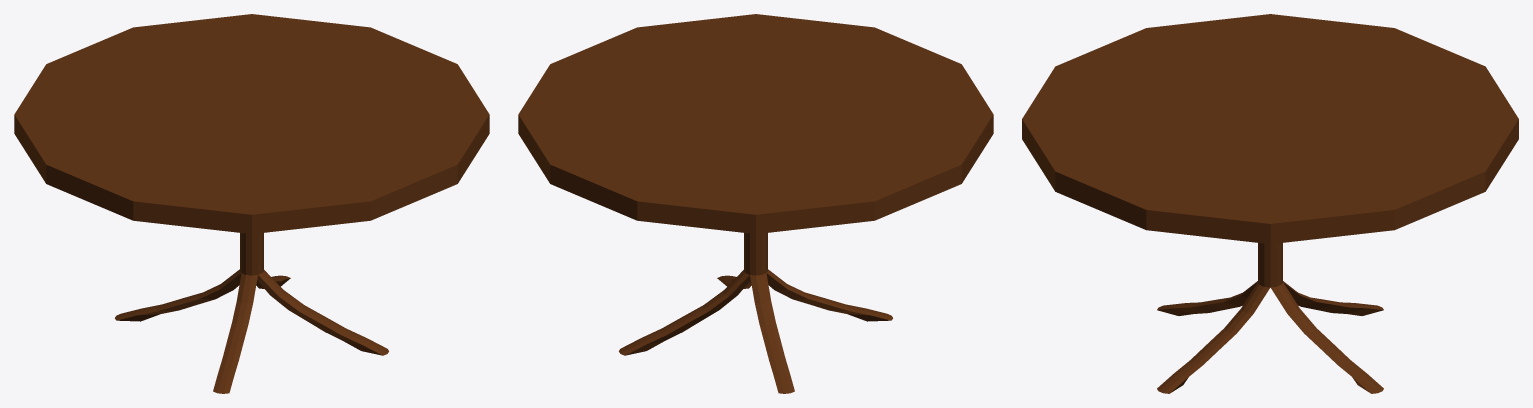
The model's file is Table_01.glb.
3 views of the same model, side by side, from view 1: azimuth 30°, elevation 25°; view 2: azimuth 150°, elevation 25°; view 3: azimuth 270°, elevation 25° (orthographic). The views are drawn at different scales.
Parts seen in each view (by area): view 1: Cylinder; view 2: Cylinder; view 3: Cylinder.
Boxes of the visible parts, x1,y1,x2,y2 form: Cylinder: (14, 14, 489, 393); Cylinder: (518, 14, 993, 393); Cylinder: (1022, 14, 1518, 393).
Size of the model in its own units: 2.36 by 1.21 by 2.36.
